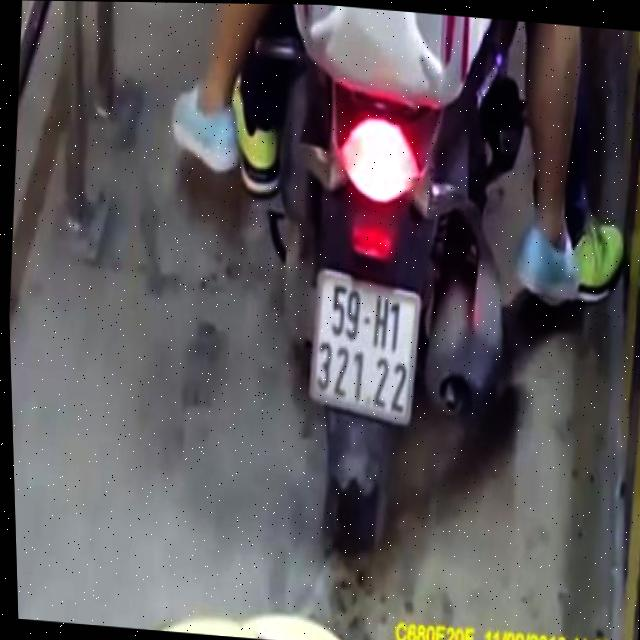motorcycle: (205, 3, 547, 582)
plate: (298, 259, 428, 428)
